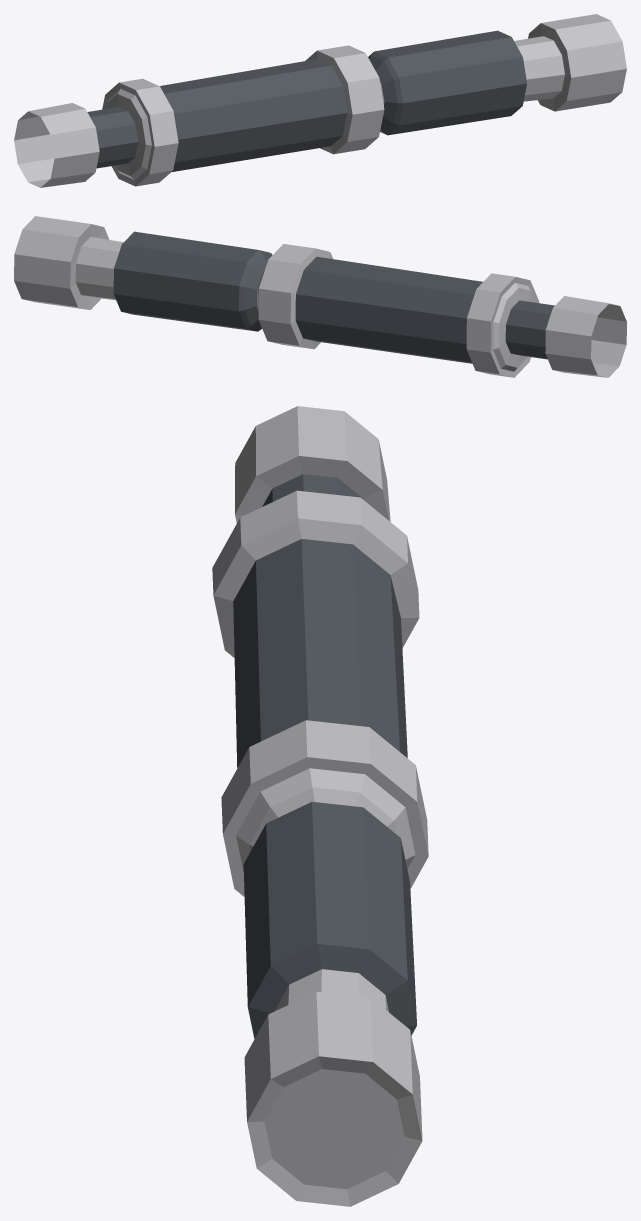
The model's file is Fighter_03_Pipes_02.fbx.
3 renders of one model, top to bottom at view 1: azimuth 30°, elevation 25°; view 2: azimuth 150°, elevation 25°; view 3: azimuth 270°, elevation 25°, orthographic. The views are drawn at different scales.
Visible parts, largest first — view 1: Fighter_03_Pipes_02; view 2: Fighter_03_Pipes_02; view 3: Fighter_03_Pipes_02.
Boxes of the visible parts, x1,y1,x2,y2 form: Fighter_03_Pipes_02: [14, 14, 626, 187]; Fighter_03_Pipes_02: [14, 216, 626, 377]; Fighter_03_Pipes_02: [212, 406, 428, 1206].
Bounding box in the file's own units: 124 × 26.82 × 20.27.
1 material, 1 textured.
